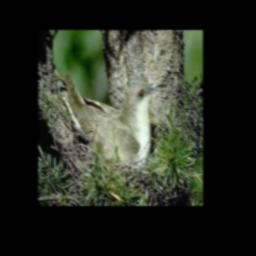Cuckoo: (65, 73, 167, 168)
